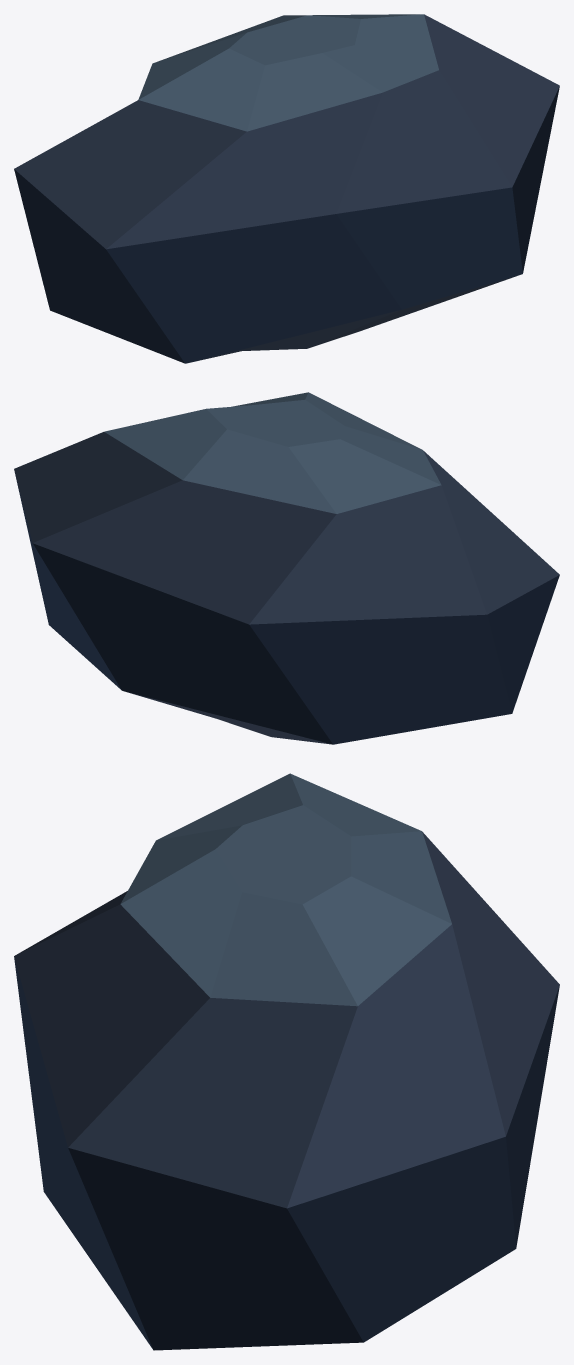
Rendered from belt-fragment.glb.
3 views of the same model, one above another, from view 1: azimuth 30°, elevation 25°; view 2: azimuth 150°, elevation 25°; view 3: azimuth 270°, elevation 25° (orthographic). The views are drawn at different scales.
Visible parts, largest first — view 1: belt-fragment; view 2: belt-fragment; view 3: belt-fragment.
Part boxes in pixels (box(x1,y1,x2,y2)): belt-fragment: box(14, 14, 559, 363); belt-fragment: box(14, 392, 559, 744); belt-fragment: box(14, 773, 559, 1350).
Bounding box in the file's own units: 2.21 × 1.22 × 1.39.
